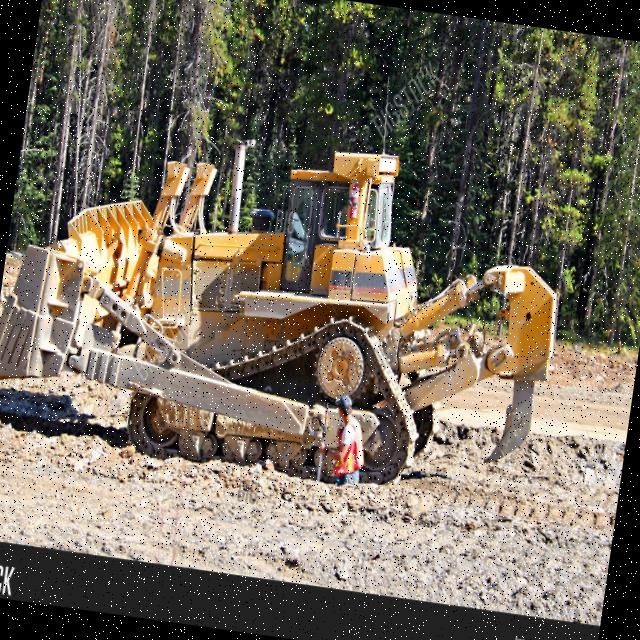Bulldozer: (0, 91, 608, 542)
